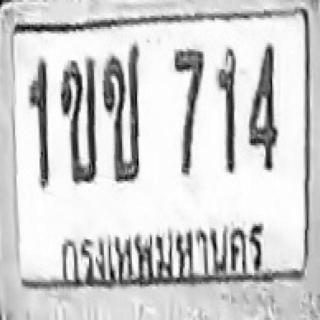A02: (58, 56, 96, 184)
A10: (102, 43, 141, 181)
N01: (215, 46, 238, 171), (28, 59, 50, 189)
N04: (247, 41, 279, 171)
N07: (172, 47, 204, 177)
P04: (51, 217, 270, 292)
